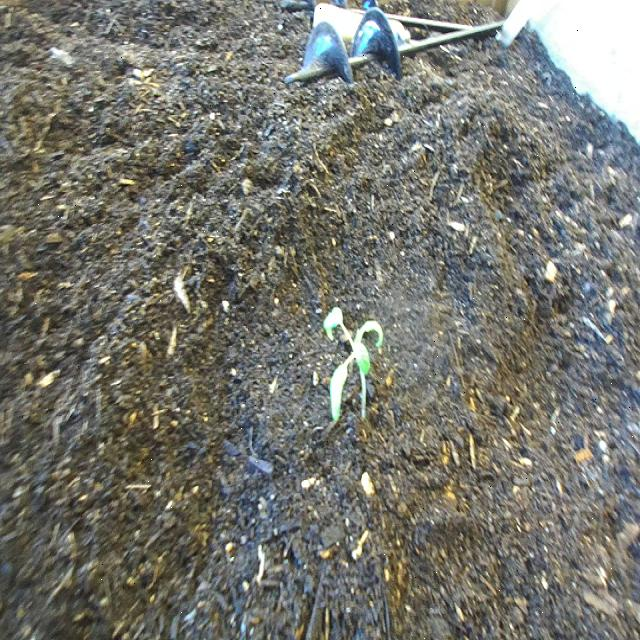Healthy: (314, 281, 394, 443)
